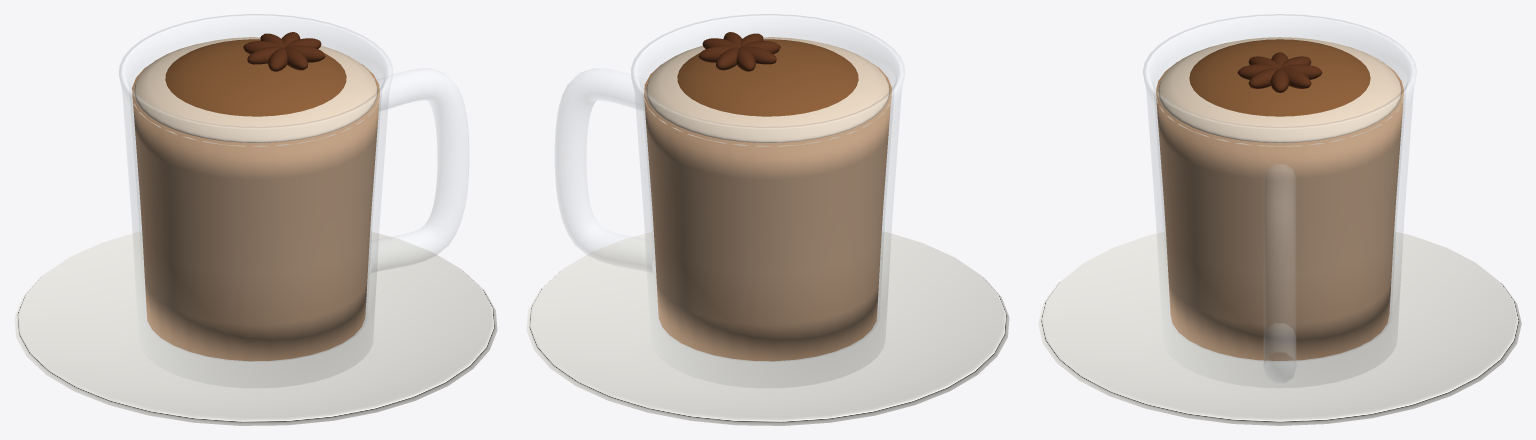
Rendered from alba-chai-latte.glb.
The picture shows the model from 3 angles, left to right: view 1: azimuth 30°, elevation 25°; view 2: azimuth 150°, elevation 25°; view 3: azimuth 270°, elevation 25°; orthographic projection.
Bounding box in the file's own units: 0.1485 × 0.1029 × 0.148.
